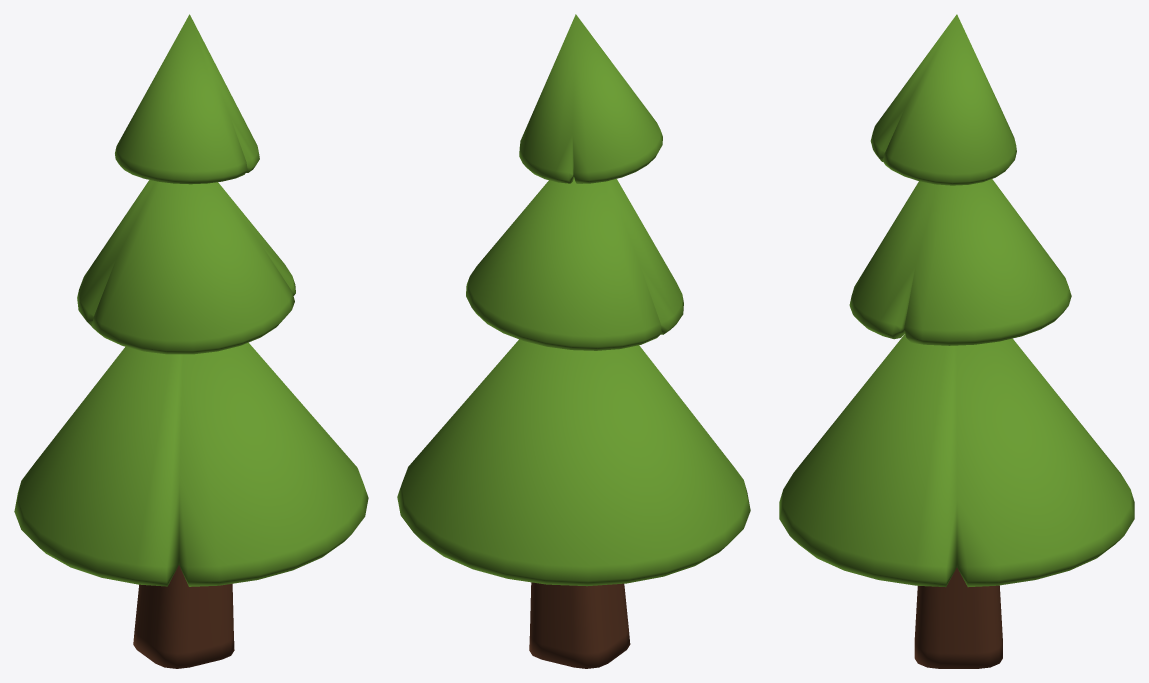
Rendered from Tree I_ New.fbx.
3 renders of one model, left to right at view 1: azimuth 30°, elevation 25°; view 2: azimuth 150°, elevation 25°; view 3: azimuth 270°, elevation 25°, orthographic.
Visible parts, largest first — view 1: Tree I; view 2: Tree I; view 3: Tree I.
Boxes of the visible parts, x1,y1,x2,y2 form: Tree I: (14, 14, 368, 668); Tree I: (397, 14, 750, 668); Tree I: (779, 14, 1134, 668).
Bounding box in the file's own units: 222 × 439 × 221.
